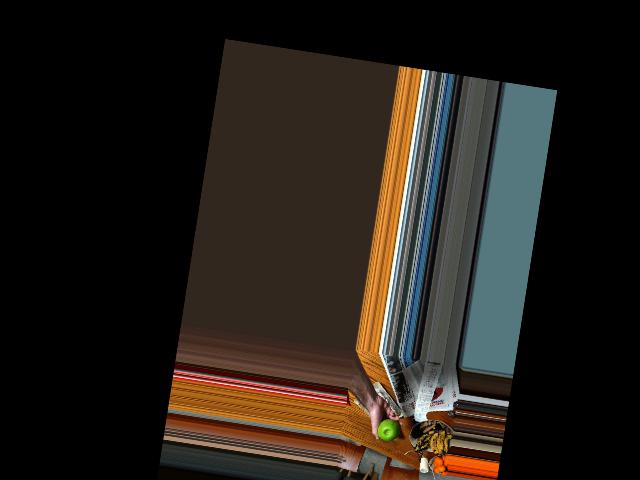apple: (374, 416, 399, 443)
